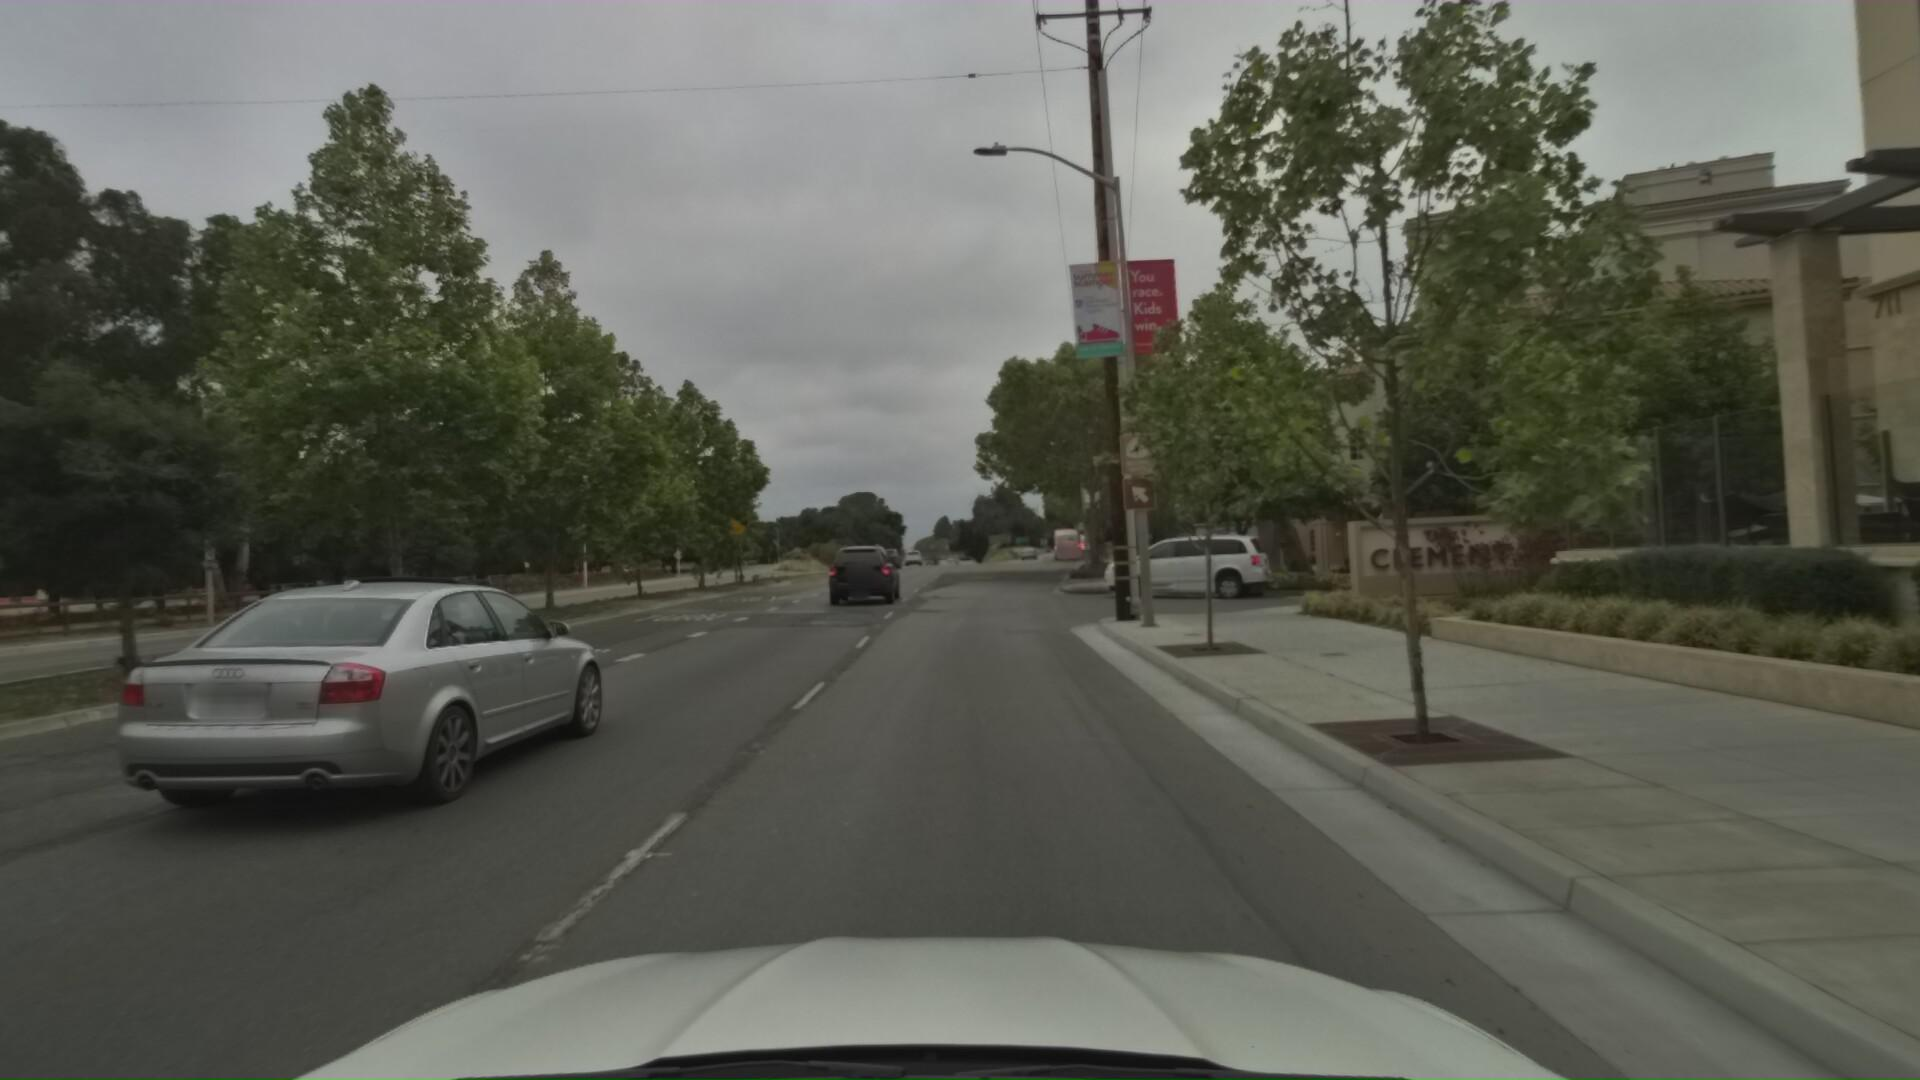car: (28, 489, 650, 844), (1095, 520, 1280, 595), (822, 524, 909, 599), (882, 541, 910, 564)
